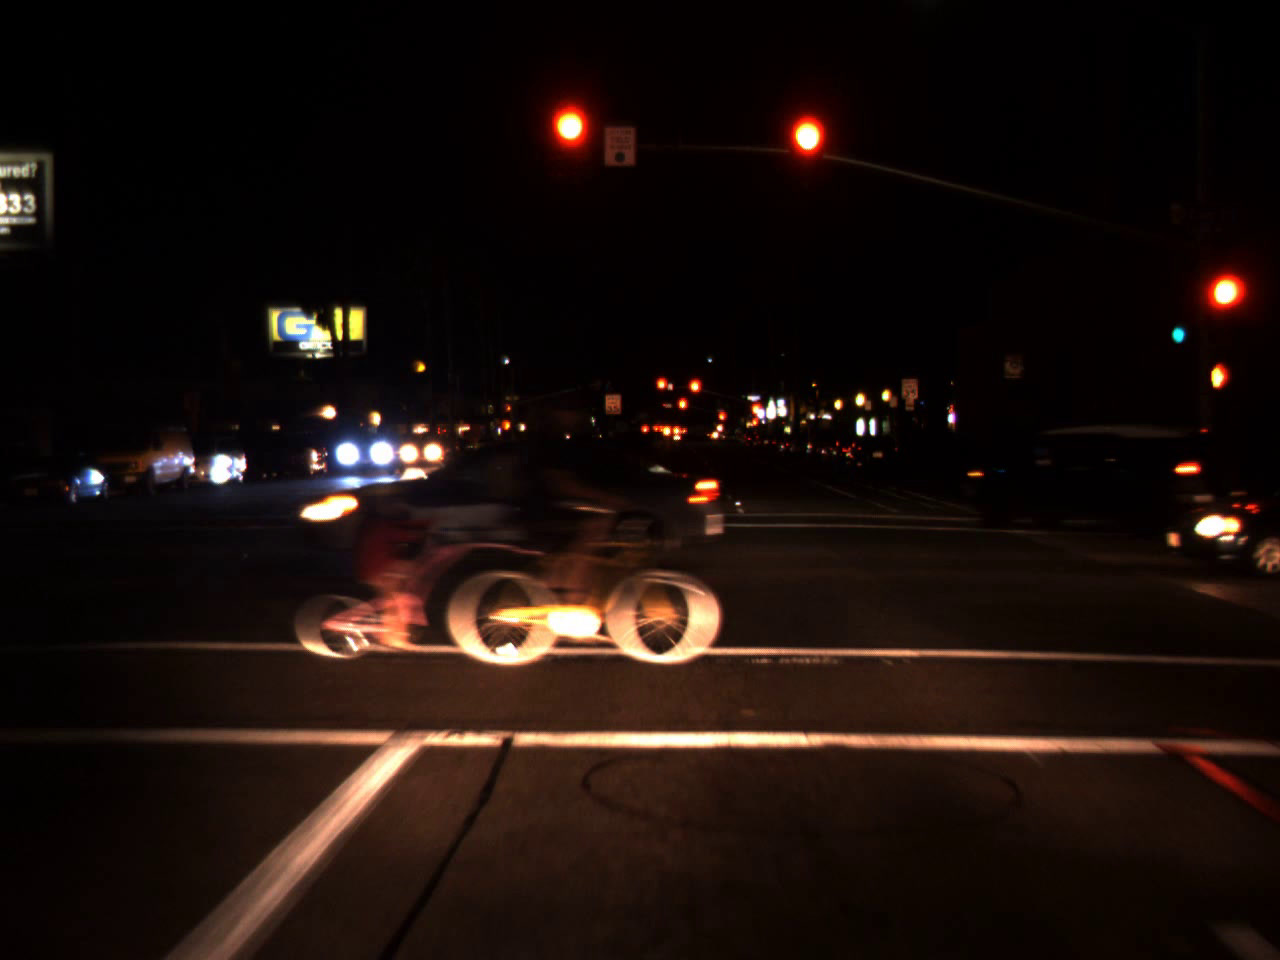stop: (787, 116, 826, 194), (1206, 271, 1246, 343), (553, 108, 589, 183), (687, 377, 702, 409), (748, 400, 764, 429), (655, 376, 668, 400), (677, 395, 689, 422), (717, 410, 727, 431), (503, 402, 512, 418)
